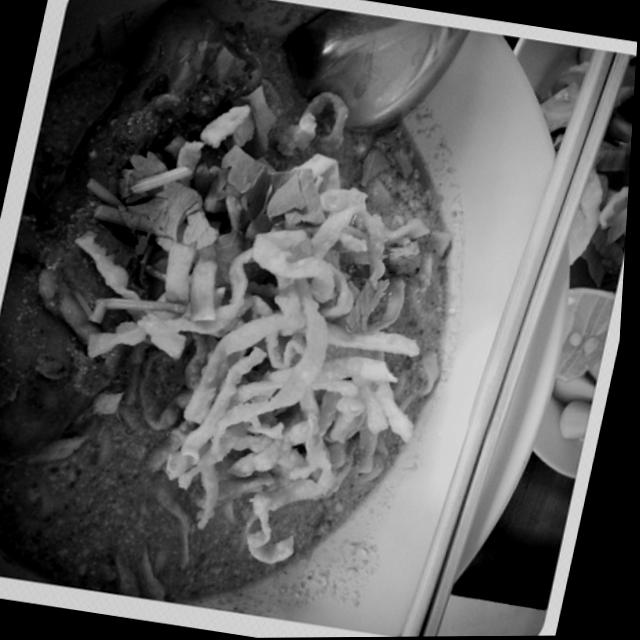面条主食: (0, 3, 549, 630)
